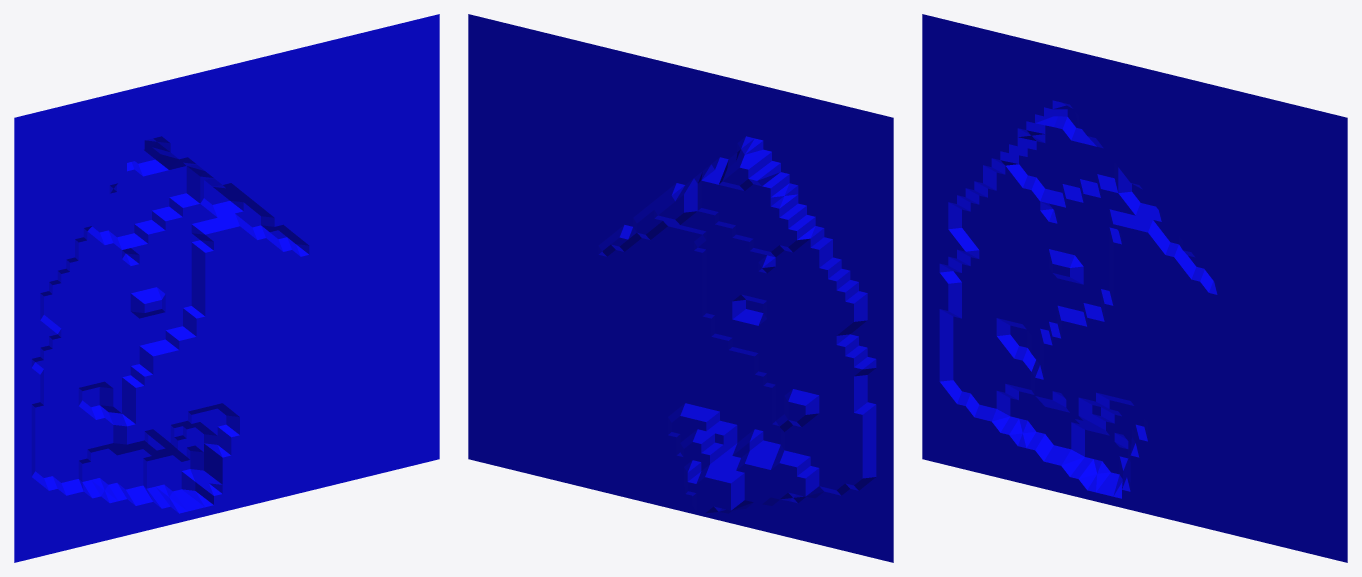
3 renders of one model, left to right at view 1: azimuth 30°, elevation 25°; view 2: azimuth 150°, elevation 25°; view 3: azimuth 330°, elevation 25°, orthographic.
Parts seen in each view (by area): view 1: Node; view 2: Node; view 3: Node.
Part boxes in pixels (<box>): Node: <box>14,14,439,562</box>; Node: <box>468,14,893,562</box>; Node: <box>922,14,1347,562</box>.
Size of the model in its own units: 49 by 49 by 3.
